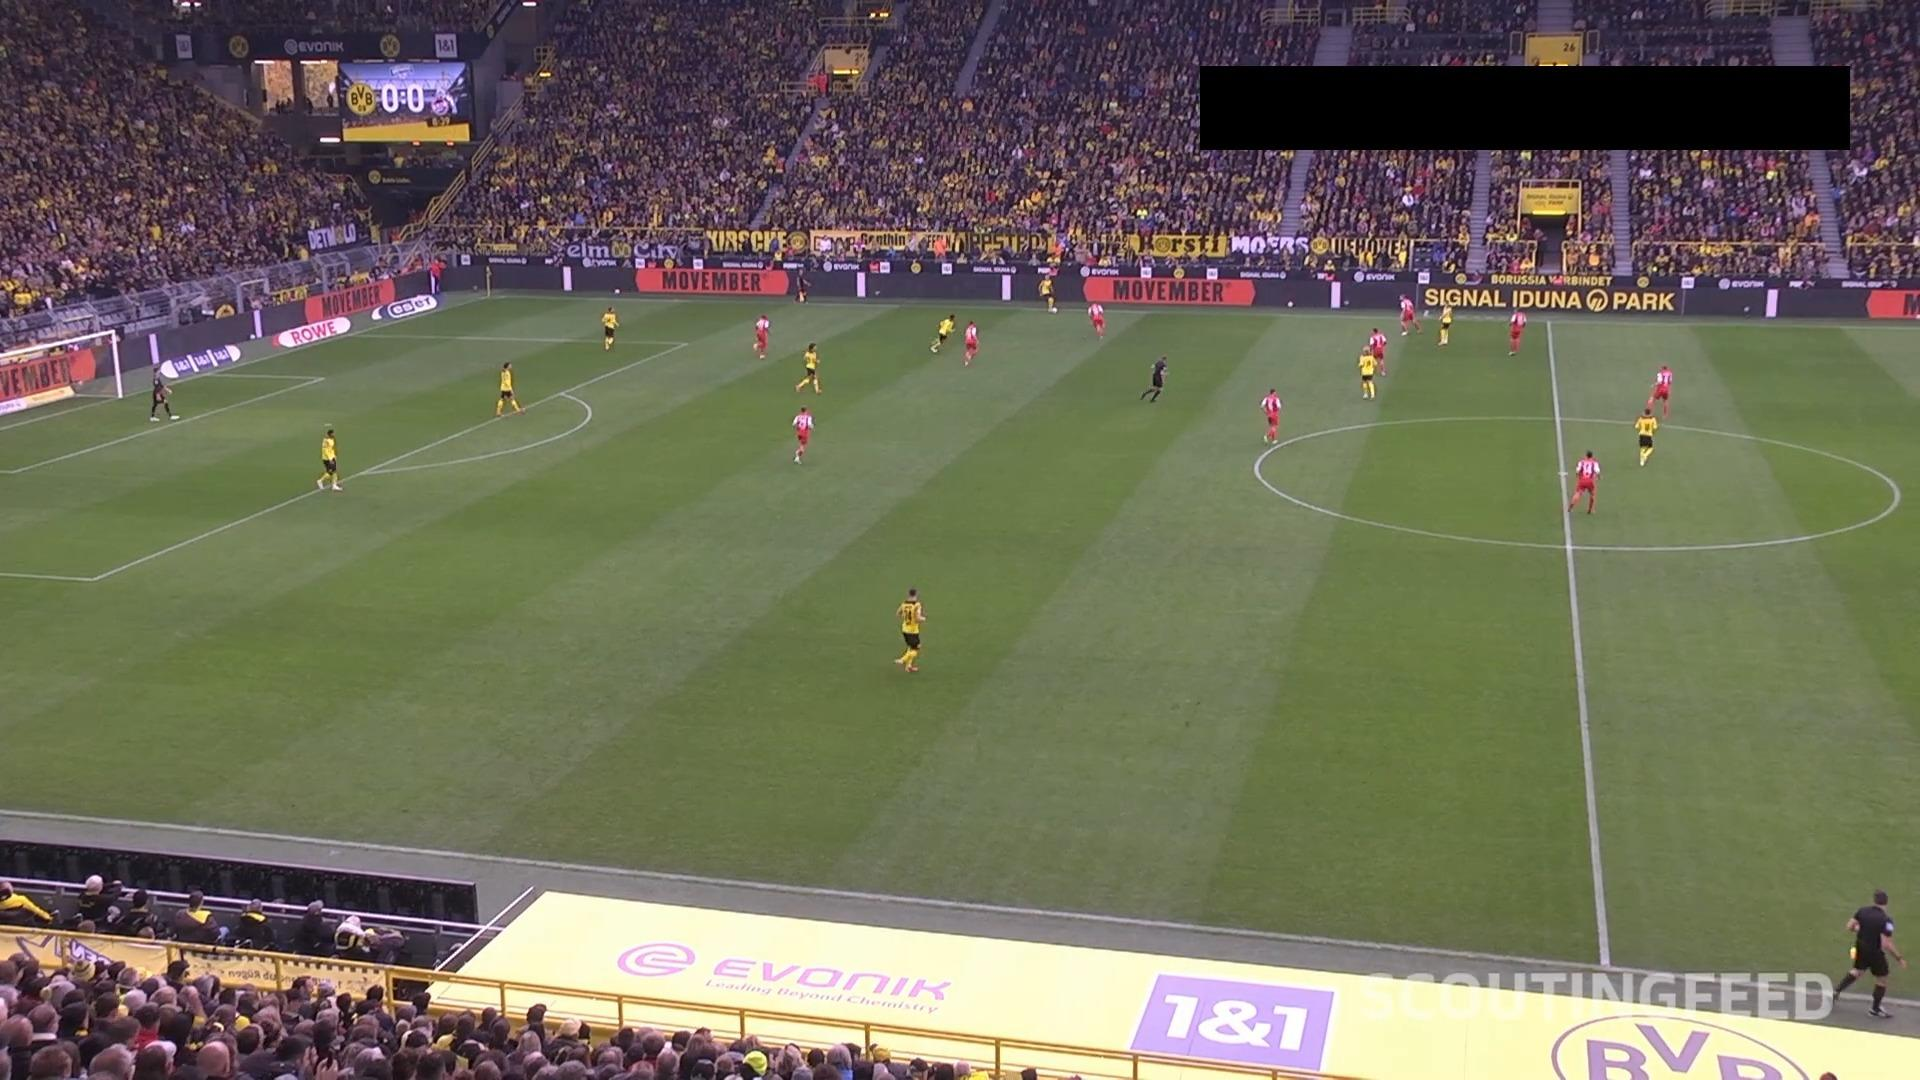player: (893, 586, 926, 672), (1567, 449, 1600, 514), (315, 424, 343, 491), (148, 365, 180, 422), (494, 360, 523, 417), (794, 341, 822, 394), (1646, 363, 1672, 420), (1634, 405, 1657, 466), (790, 405, 813, 464), (1259, 387, 1282, 443), (1356, 346, 1378, 399), (1366, 326, 1388, 376), (929, 313, 955, 353), (1506, 306, 1526, 355), (1397, 292, 1417, 335), (961, 319, 979, 366), (600, 305, 618, 351), (752, 313, 770, 358), (1038, 275, 1058, 313), (1436, 303, 1453, 345), (1087, 300, 1105, 337)
referee: (1830, 887, 1907, 1017), (1139, 355, 1168, 402), (793, 265, 811, 303), (428, 256, 445, 295)
